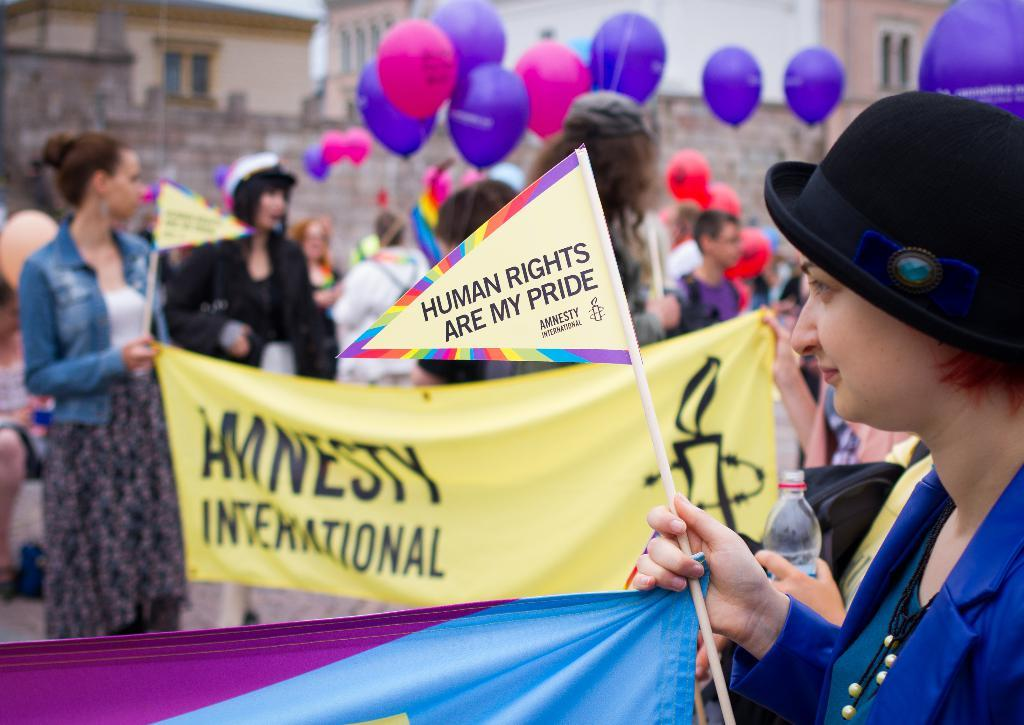Hat: (763, 88, 1023, 358)
